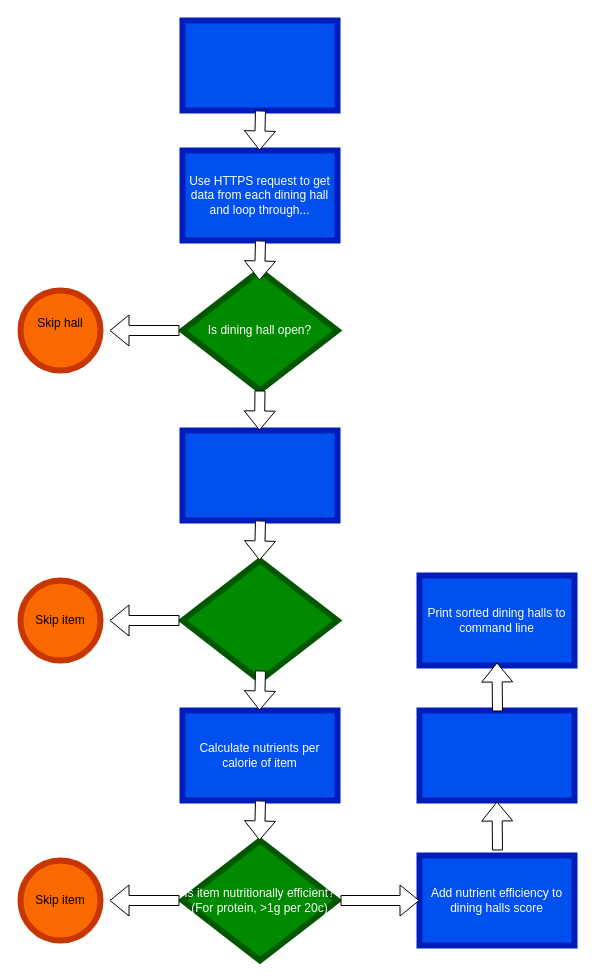
The diagram is 594 pixels wide and 980 high, and some of its shapes have lost their labels. The shapes that lost their labels are listed below. From the top down, each one's centre as x and y in pixels, then its label:
At [259,65]: "User enters command".
At [259,475]: "Get nutrition data for each item in hall".
At [259,620]: "Does item include allergens?".
At [496,755]: "Sort dining hall list using the sorted scores list".
